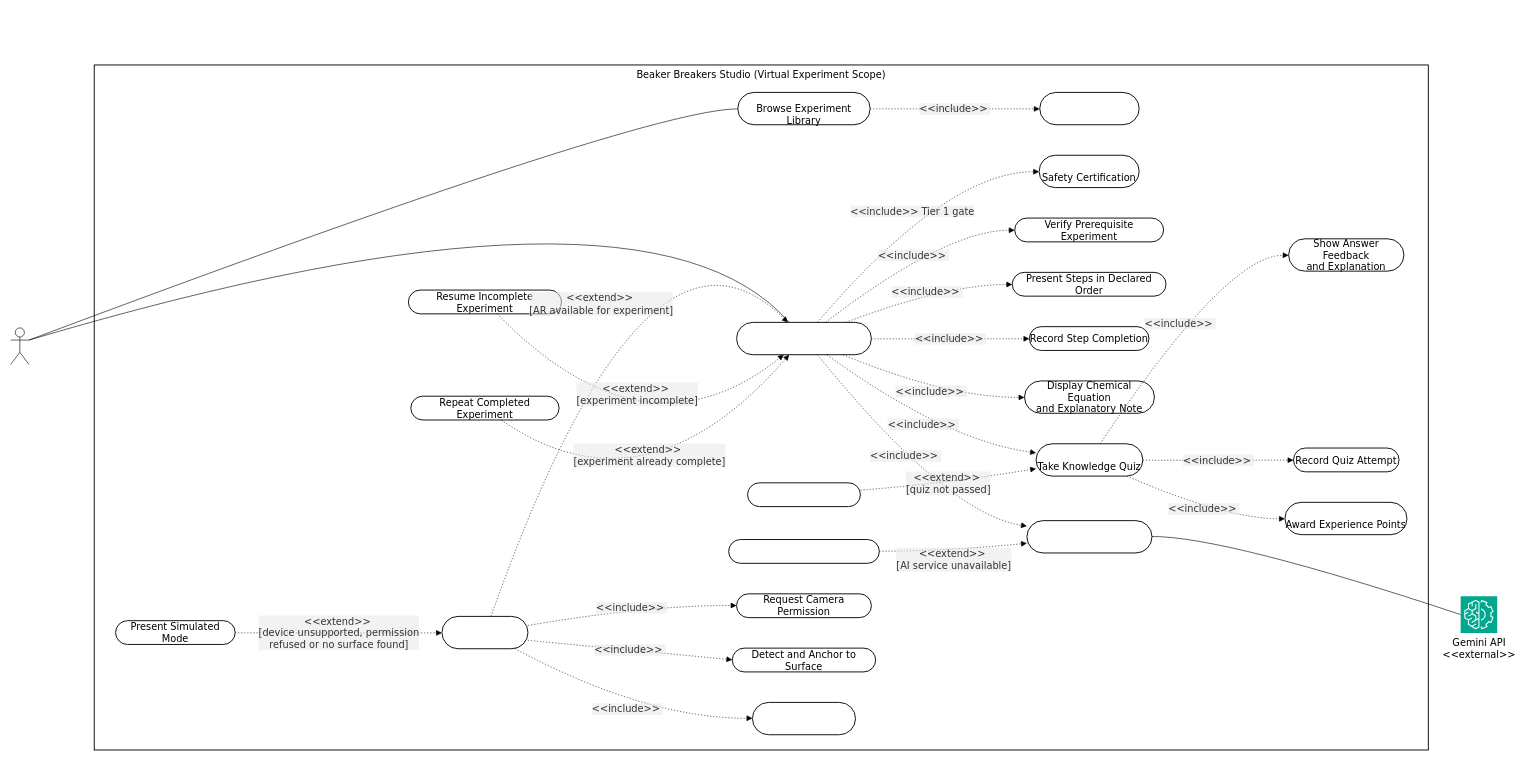
Image size: 1526x761. Some labels were removed from this diagram. The centre of each missing label's shape, as x and y in pixels:
Actor: the point at 19,345
AR Mode Session: the point at 484,632
Filter Library by Difficulty and Topic: the point at 1089,108
Present Pre Authored Guidance: the point at 803,551
Reattempt Failed Quiz: the point at 804,494
Receive AI Step Guidance: the point at 1089,536
Release Camera and Motion Sensors: the point at 804,718
UC-03 Perform Virtual Experiment: the point at 804,338
